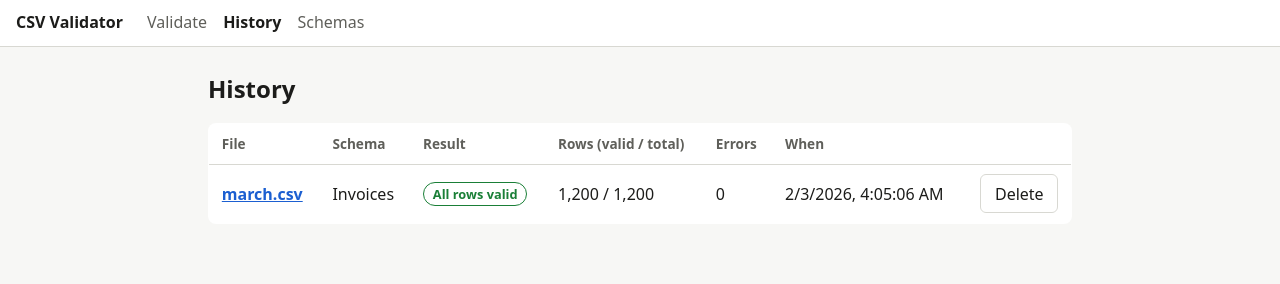
Test case: History: deleting a run (FR-27) › keeps the run when the user cancels
Step 1. Click the button with aria-label "Delete run of march.csv" → (1019, 194), box [980,174,1058,213]
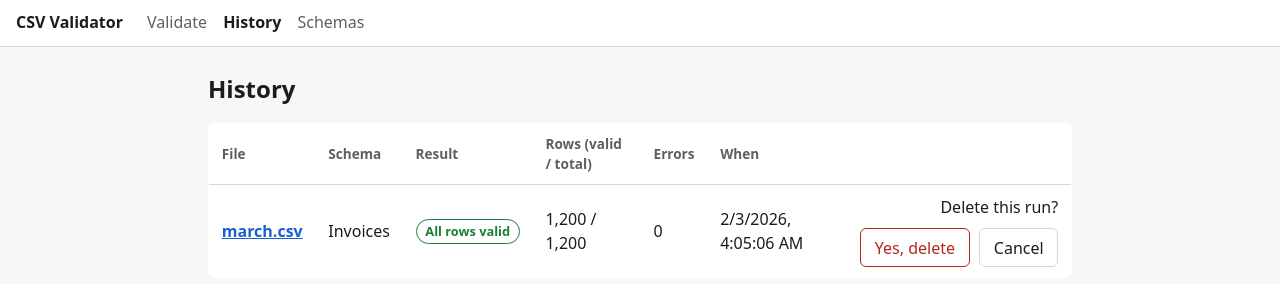
Step 2. Click the button "Cancel" → (1019, 248), box [979,228,1058,267]
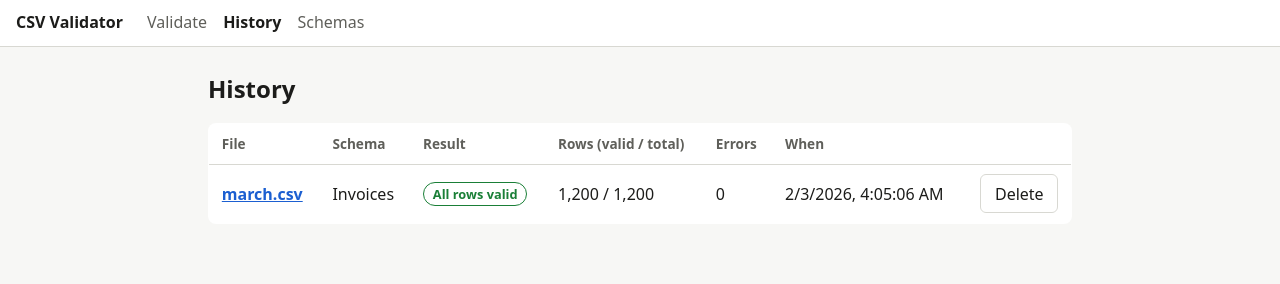
Check: the button with aria-label "Delete run of march.csv" is shown, box [980,174,1058,213]
